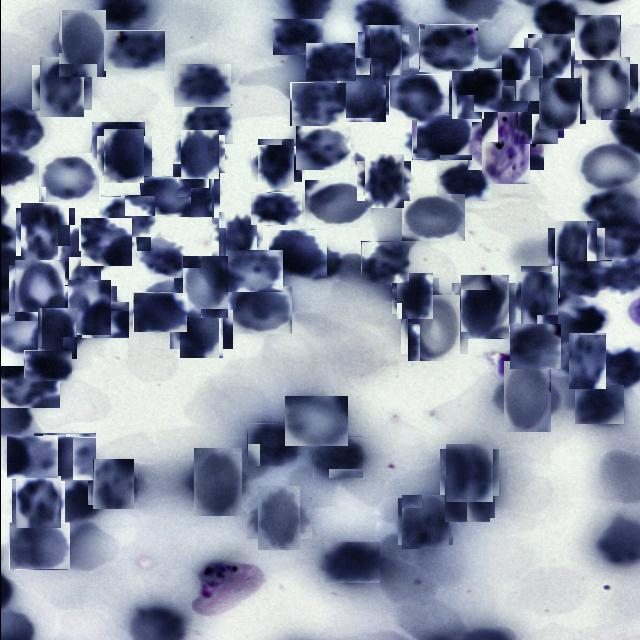red blood cell: (496, 367, 556, 427), (404, 298, 463, 358), (188, 452, 246, 512), (52, 16, 110, 72), (456, 279, 512, 336), (304, 180, 370, 228), (284, 396, 347, 446), (332, 62, 388, 118), (577, 60, 633, 116), (226, 286, 291, 334), (11, 262, 66, 318), (37, 152, 98, 202), (402, 194, 466, 241), (33, 434, 95, 482), (8, 522, 69, 570), (174, 300, 228, 354), (178, 260, 232, 314), (252, 491, 305, 545), (418, 24, 477, 72), (442, 446, 495, 499), (18, 206, 72, 258), (268, 230, 326, 278), (411, 114, 471, 160), (35, 62, 87, 114), (52, 229, 104, 281), (399, 496, 450, 547), (388, 74, 444, 120), (102, 30, 164, 71), (550, 224, 600, 274), (442, 470, 492, 520), (64, 282, 114, 332), (0, 366, 59, 408), (290, 82, 346, 126), (173, 64, 230, 107), (80, 218, 131, 266), (91, 122, 144, 168), (295, 126, 350, 170), (472, 68, 527, 112), (13, 477, 62, 526), (100, 195, 154, 238), (227, 250, 282, 292), (100, 132, 148, 180), (498, 51, 546, 99), (514, 271, 562, 319), (509, 324, 560, 369), (168, 168, 216, 215), (525, 36, 572, 84), (324, 542, 379, 583), (359, 158, 406, 205), (513, 94, 560, 141), (562, 338, 610, 384), (135, 236, 187, 278), (436, 161, 490, 201), (132, 292, 186, 332), (246, 423, 296, 466), (6, 436, 57, 478), (449, 72, 495, 118), (536, 80, 582, 126), (89, 462, 135, 508), (34, 311, 80, 357), (312, 436, 362, 478), (574, 15, 620, 60), (181, 104, 232, 144), (214, 215, 259, 260), (558, 260, 611, 298), (139, 176, 190, 215), (360, 29, 405, 73), (361, 241, 408, 283), (177, 132, 221, 176), (574, 385, 623, 424), (306, 43, 356, 81), (254, 142, 298, 185), (272, 19, 322, 55), (80, 301, 128, 338), (249, 192, 301, 225), (394, 276, 435, 316), (23, 350, 71, 381)
trophozoite: (192, 559, 266, 616), (474, 115, 536, 177)
